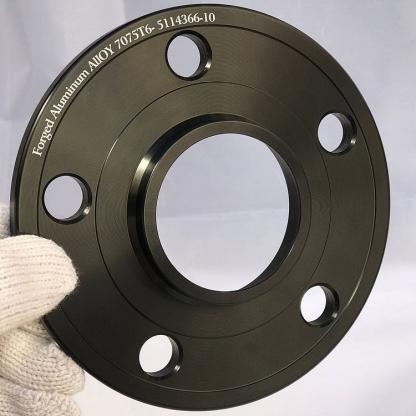FOD: (9, 0, 396, 414)
